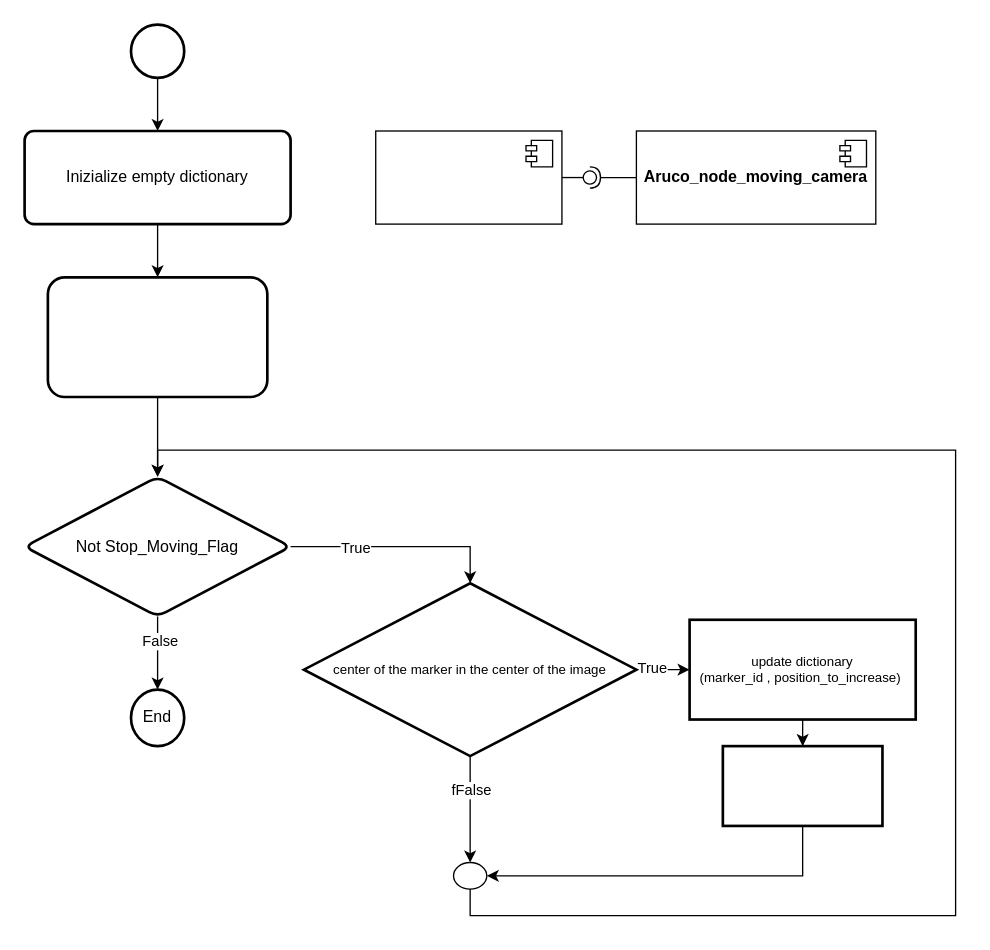
Some shapes in this 990 by 950 pixel diagram are drawn without their labels. Each missing label, with the box of its shape:
Moving_Robot: (374, 130, 562, 224)
sort_dictionary: (721, 744, 883, 827)
Stop_Moving_Flag = False: (46, 275, 268, 398)
